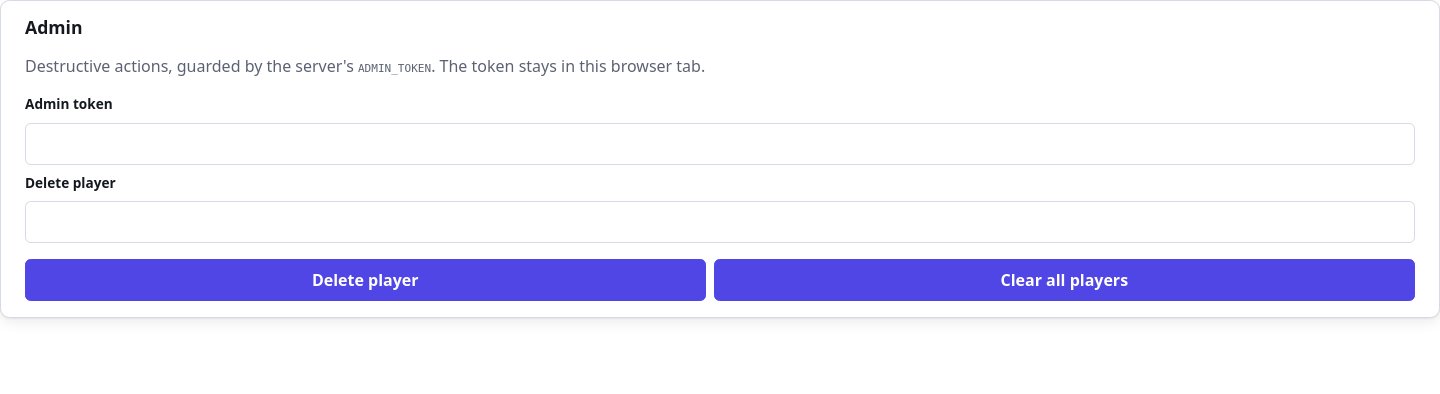
Scenario: AdminPanel › explains when the admin API is disabled
In the password field labelled "Admin token": (720, 144) [25, 122, 1415, 164], type "s3cret"
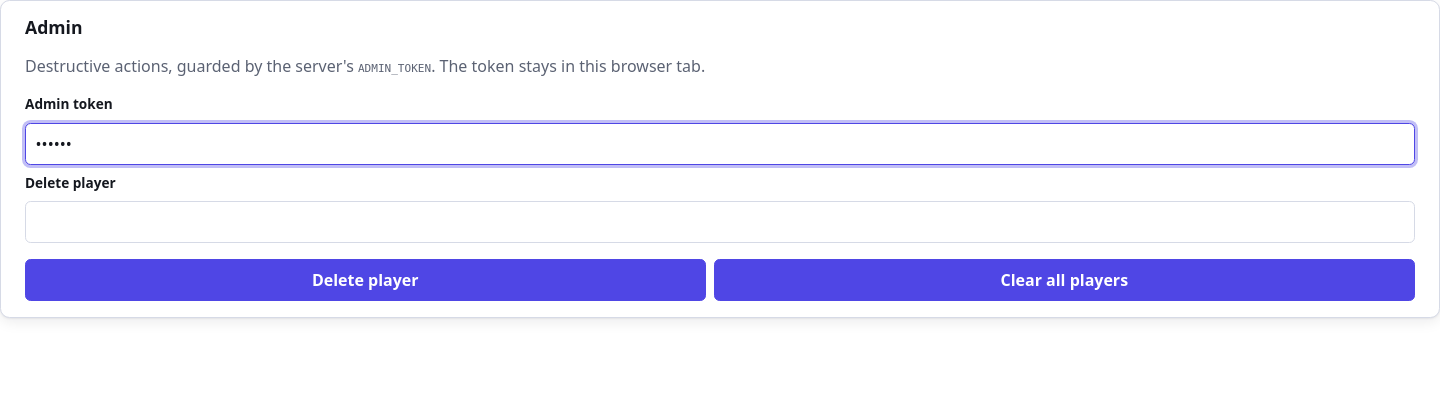
In the dropdown labelled "Delete player": (720, 222) [25, 201, 1415, 243], type "alice"
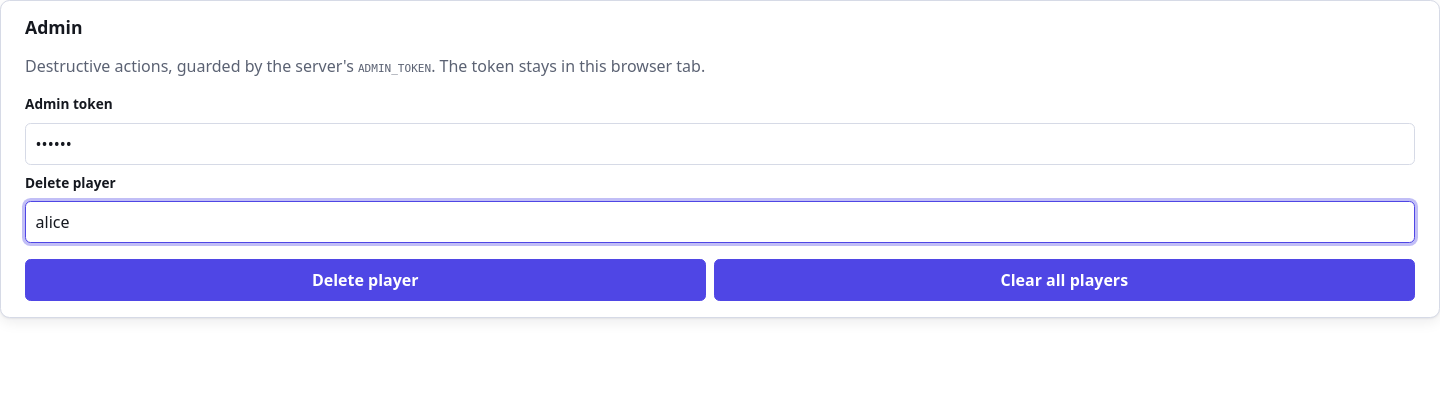
Click the button "Delete player": (365, 280) [25, 259, 706, 301]
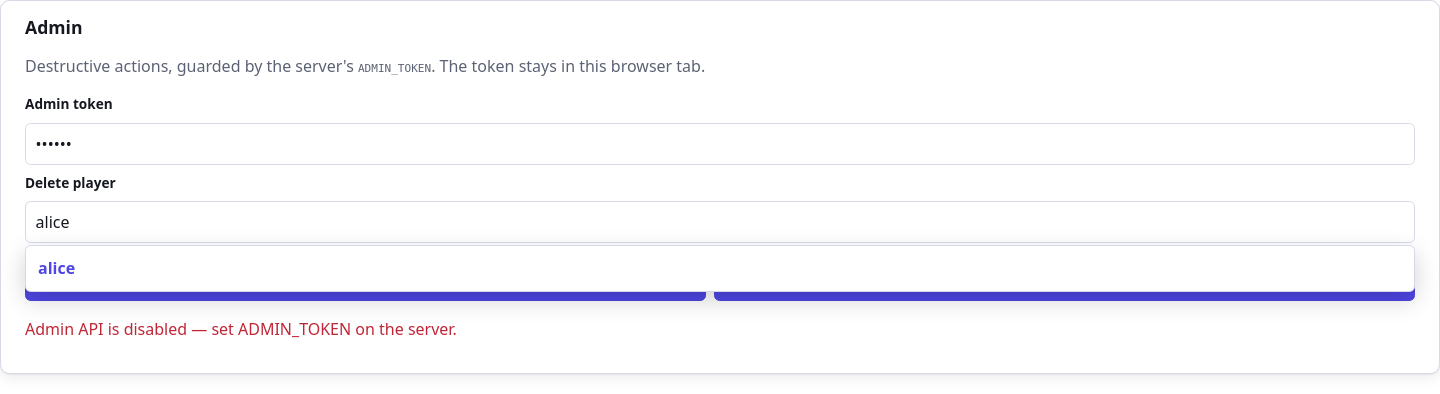
Check: the message shows "Admin API is disabled", box [25, 318, 457, 340]
